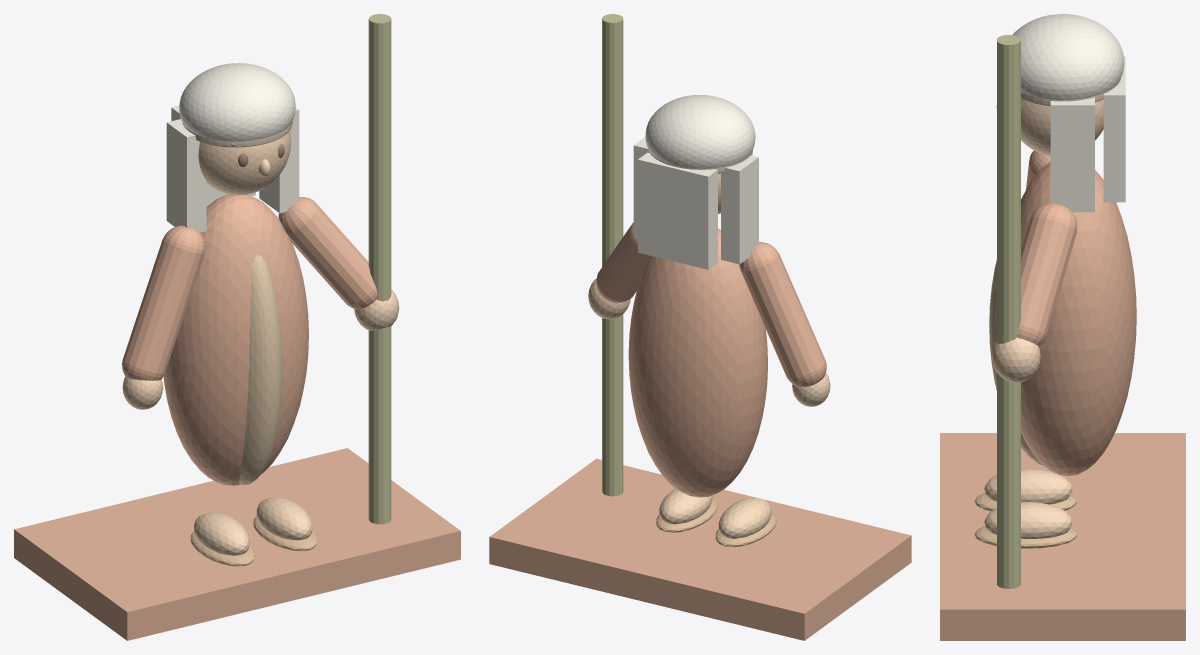
Rendered from shepherd.glb.
The picture shows the model from 3 angles, left to right: view 1: azimuth 30°, elevation 25°; view 2: azimuth 150°, elevation 25°; view 3: azimuth 270°, elevation 25°; orthographic projection. The views are drawn at different scales.
Parts seen in each view (by area): view 1: Base, Body_Coat, Staff, Scarf_Top, Sleeve_L, Robe_Front, Sleeve_R, Scarf_Side_R, Head, Foot_L, Foot_R, Scarf_Side_L (+5 smaller); view 2: Base, Body_Coat, Staff, Scarf_Back, Scarf_Top, Sleeve_L, Scarf_Side_R, Sleeve_R, Foot_R, Foot_L, Hand_R, Hand_L (+3 smaller); view 3: Base, Body_Coat, Staff, Scarf_Top, Sleeve_R, Scarf_Side_L, Scarf_Back, Foot_L, Foot_R, Head, Hand_R, Sandal_L (+4 smaller).
Boxes of the visible parts, box(x1,y1,x2,y2) form: Base: box(14, 448, 460, 640); Body_Coat: box(163, 194, 308, 485); Staff: box(368, 14, 391, 524); Scarf_Top: box(179, 63, 295, 141); Sleeve_L: box(122, 225, 205, 380); Robe_Front: box(239, 255, 282, 485); Sleeve_R: box(278, 197, 377, 309); Scarf_Side_R: box(166, 119, 206, 232); Head: box(198, 130, 291, 195); Foot_L: box(256, 497, 312, 540); Foot_R: box(194, 512, 249, 555); Scarf_Side_L: box(259, 107, 299, 213); Base: box(489, 458, 911, 640); Body_Coat: box(628, 228, 767, 497); Staff: box(602, 14, 623, 496); Scarf_Back: box(638, 152, 717, 269); Scarf_Top: box(645, 95, 755, 173); Sleeve_L: box(739, 242, 826, 387); Scarf_Side_R: box(721, 155, 758, 264); Sleeve_R: box(596, 222, 649, 303); Foot_R: box(718, 497, 771, 538); Foot_L: box(659, 488, 712, 524); Hand_R: box(588, 278, 630, 319); Hand_L: box(792, 373, 830, 406); Base: box(940, 433, 1185, 640); Body_Coat: box(1021, 162, 1136, 475); Staff: box(997, 35, 1020, 588); Scarf_Top: box(1013, 14, 1124, 99); Sleeve_R: box(1017, 203, 1077, 346); Scarf_Side_L: box(1050, 97, 1094, 212); Scarf_Back: box(1103, 56, 1125, 202); Foot_L: box(984, 502, 1072, 538); Foot_R: box(984, 468, 1072, 504); Head: box(1021, 99, 1103, 155); Hand_R: box(991, 337, 1040, 382); Sandal_L: box(974, 526, 1077, 548).
Bounding box in the file's own units: 0.85 × 1.29 × 0.5.
